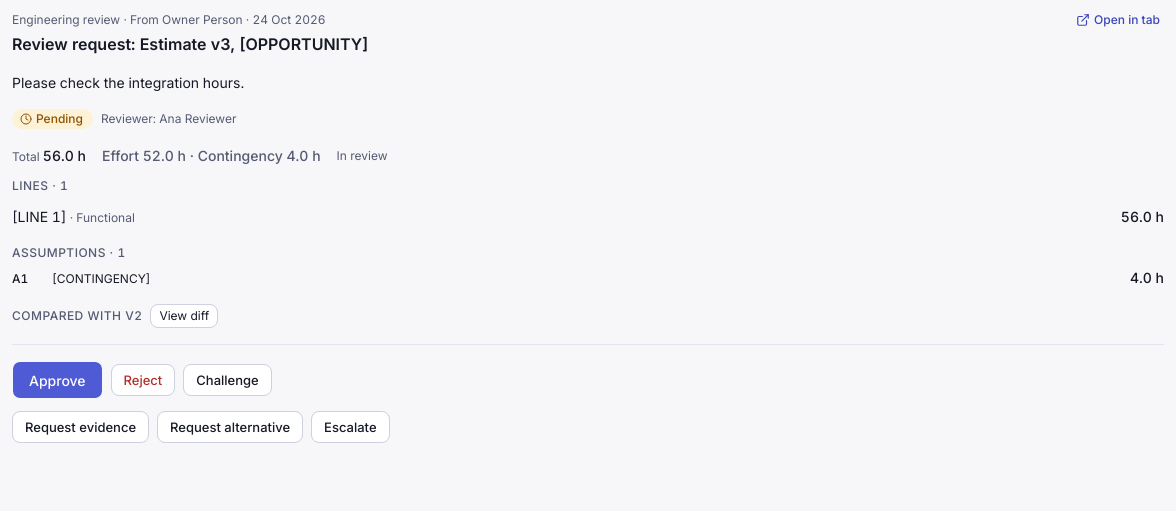
Test: ReviewPanelView › View diff lists the changed lines and the total delta
Step 1. Click the button "View diff" → [184, 316], box [150, 304, 218, 328]
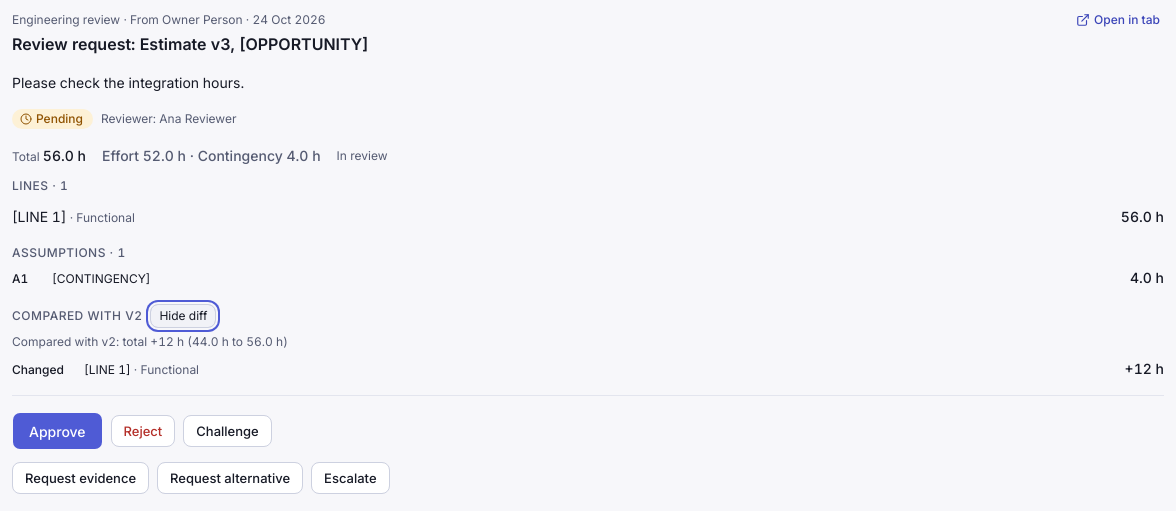
Expected: the text "Compared with v2: total +12 h" is shown, [12, 334, 187, 349]
Expected: the list item "changed [LINE 1] · Functional +12 h" is shown, [12, 358, 1164, 379]
Expected: the button "Hide diff" is expanded, [150, 304, 216, 328]
